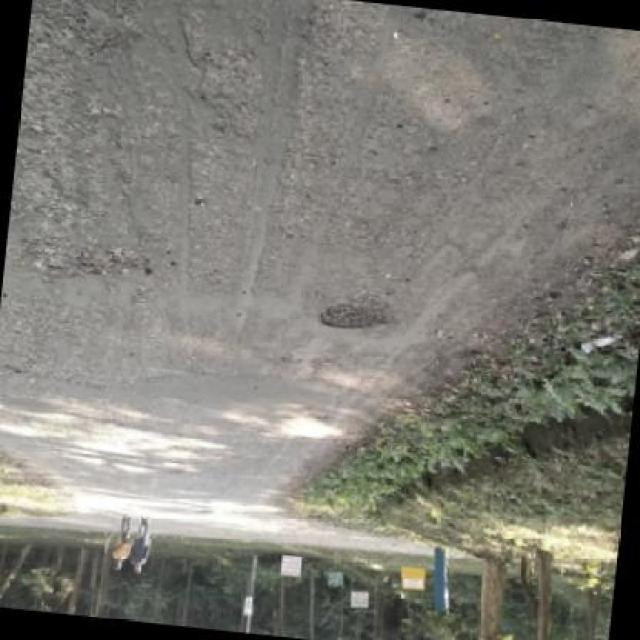pothole: (318, 285, 402, 340), (76, 243, 144, 283)
